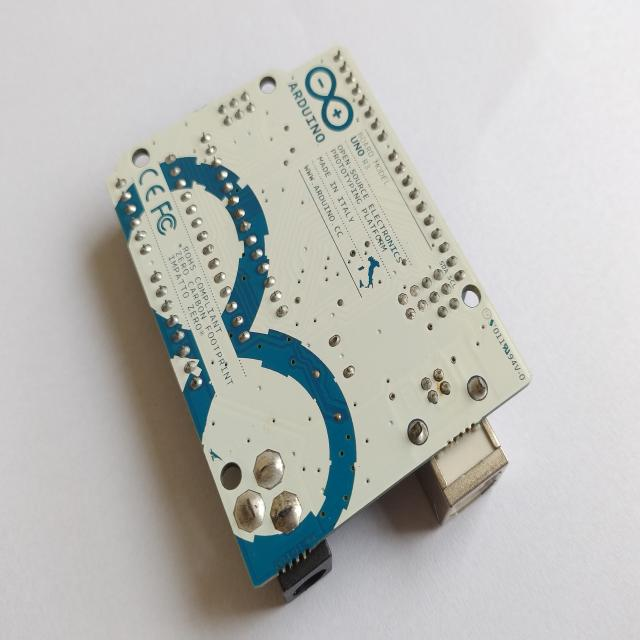arduino: (98, 39, 545, 602)
